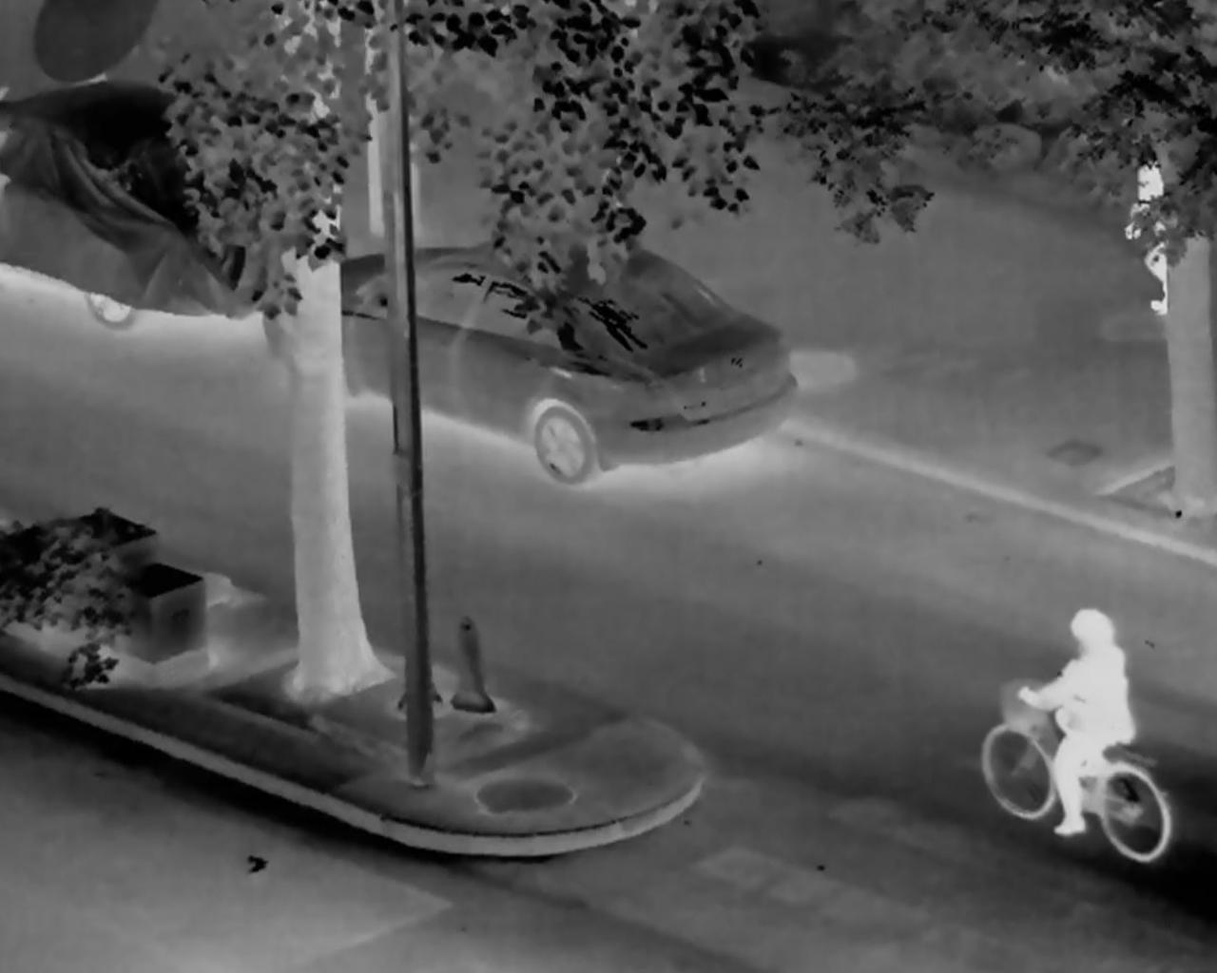person: (1018, 607, 1135, 839), (1123, 158, 1171, 315)
